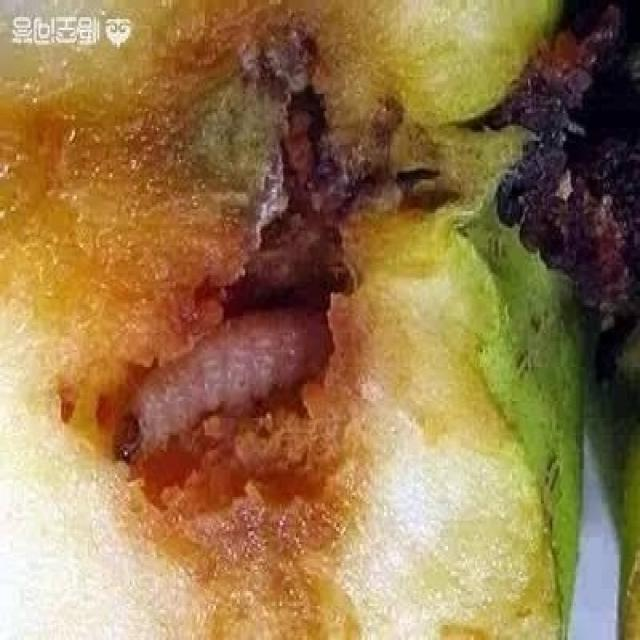peach borer: (97, 310, 340, 460)
